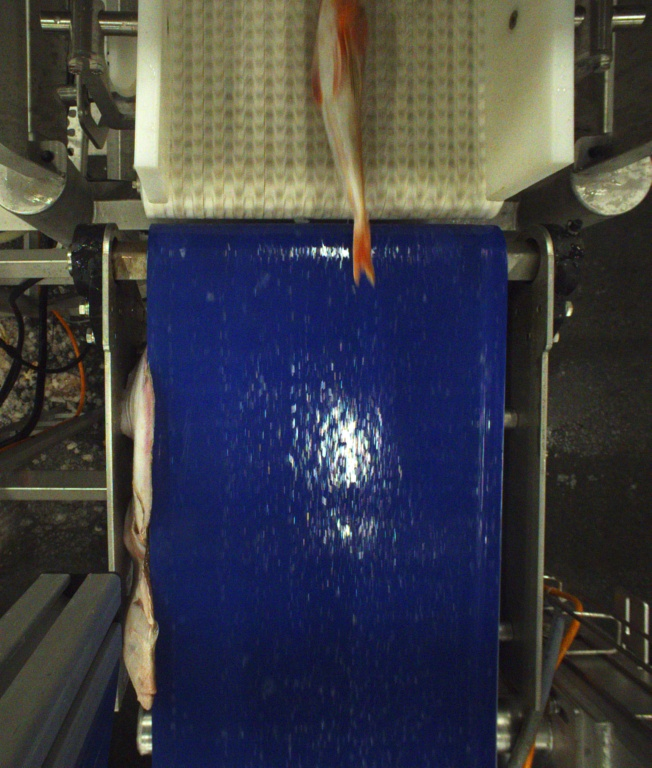GUU: (308, 0, 381, 288)
